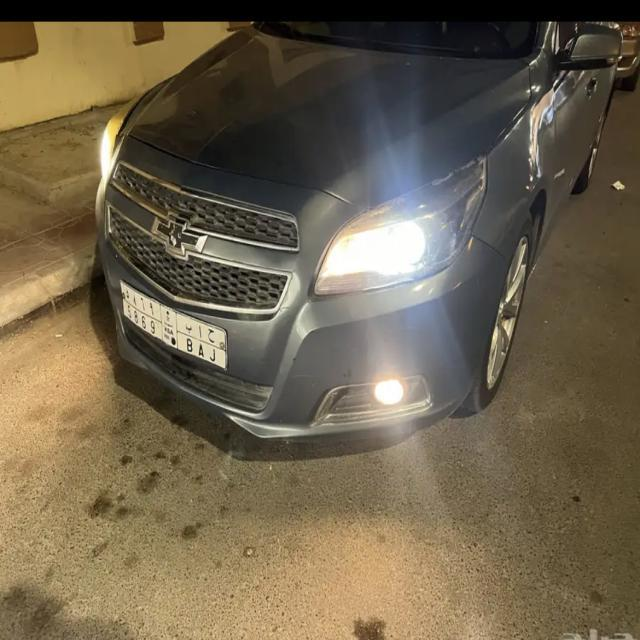license_plate: (120, 280, 228, 368)
